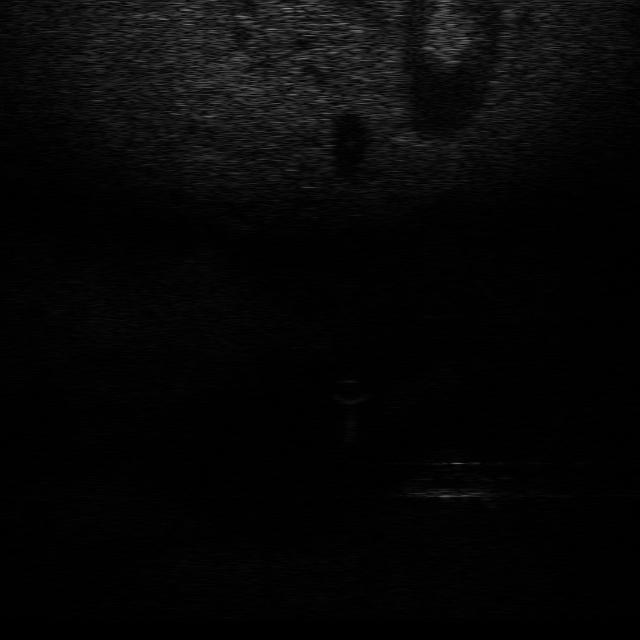ball: (325, 376, 374, 405)
tyre: (398, 460, 498, 499)
